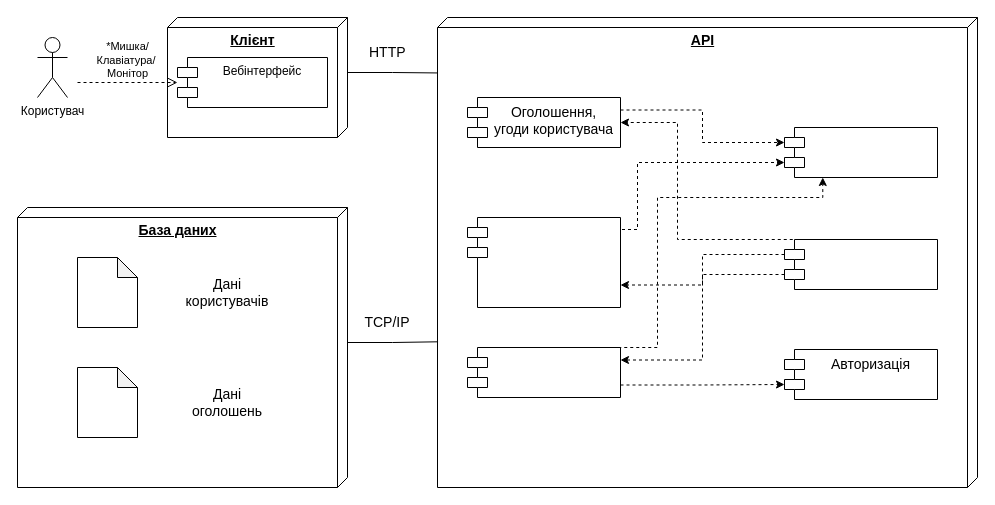
This 995x505 diagram has some shape labels left out. The shapes that lost their labels are listed below. From the top down, each one's centre as x and y in pixels, then its label:
At pixel 861 152: "Взаємодія з БД".
At pixel 543 262: "Список оголошень. Перегляд, пошук, фільтрування, Створення угод".
At pixel 861 264: "Загальний Інтерфейс".
At pixel 543 372: "Адміністрування".
